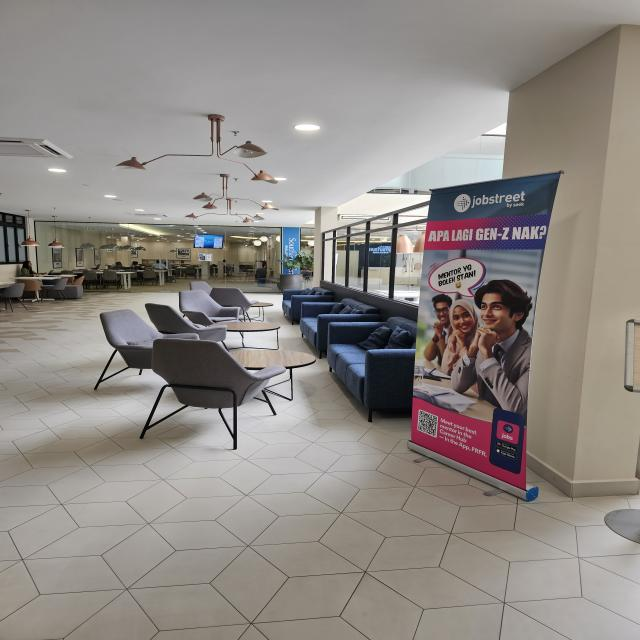footpath: (0, 459, 400, 639)
obstacle: (403, 47, 639, 526), (89, 304, 398, 454)
